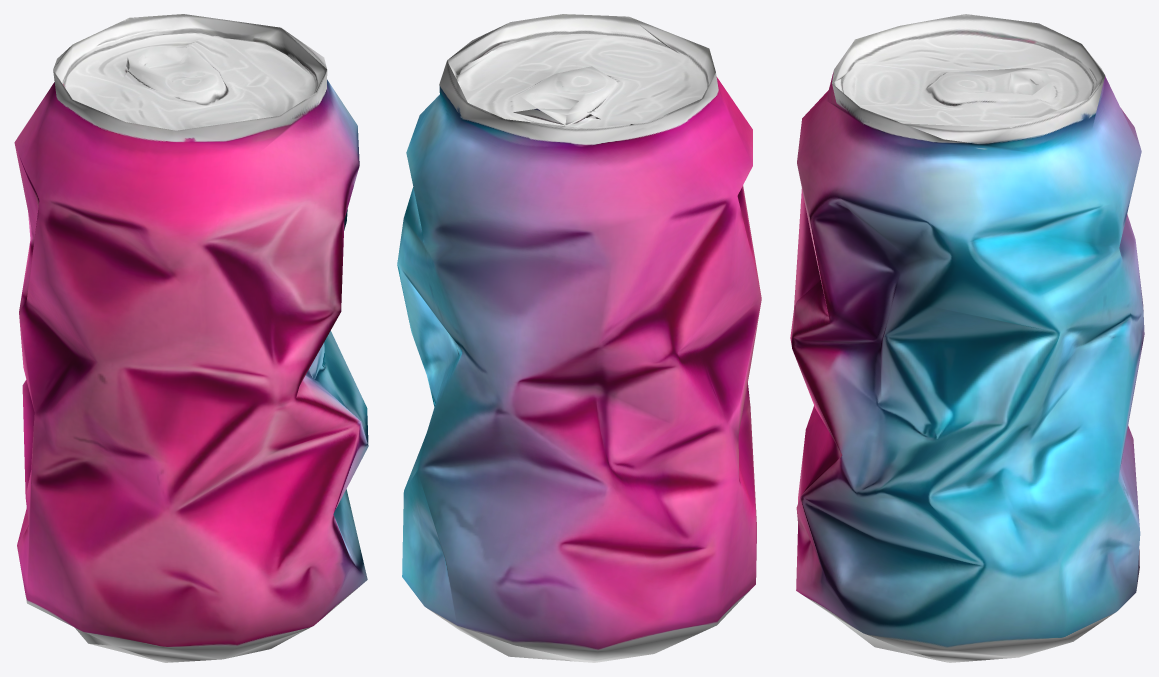
File: can.glb
3 views of the same model, side by side, from view 1: azimuth 30°, elevation 25°; view 2: azimuth 150°, elevation 25°; view 3: azimuth 270°, elevation 25° (orthographic).
Parts seen in each view (by area): view 1: Mesh_Default; view 2: Mesh_Default; view 3: Mesh_Default.
Part boxes in pixels (left/top/right/bottom): Mesh_Default: left=14, top=14, right=368, bottom=662; Mesh_Default: left=397, top=14, right=761, bottom=662; Mesh_Default: left=790, top=14, right=1144, bottom=662.
Size of the model in its own units: 1.17 by 1.91 by 1.14.
1 material, 1 textured.
